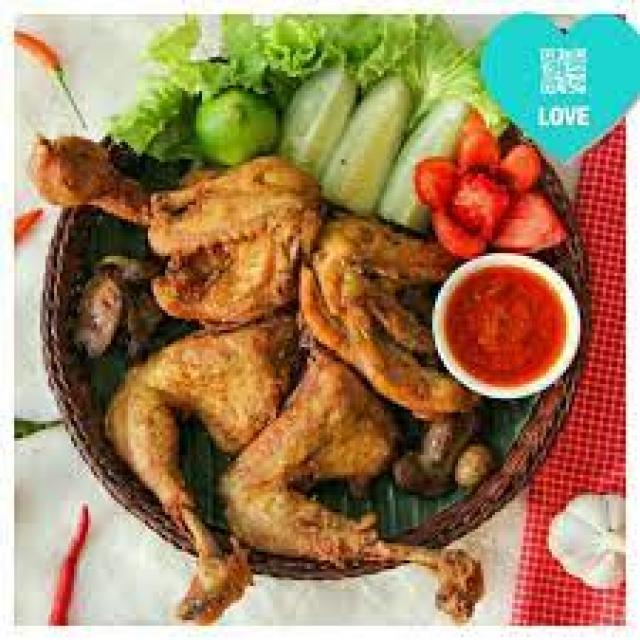Frango: (214, 356, 486, 614), (105, 316, 299, 623), (34, 137, 313, 327), (304, 213, 461, 421)
